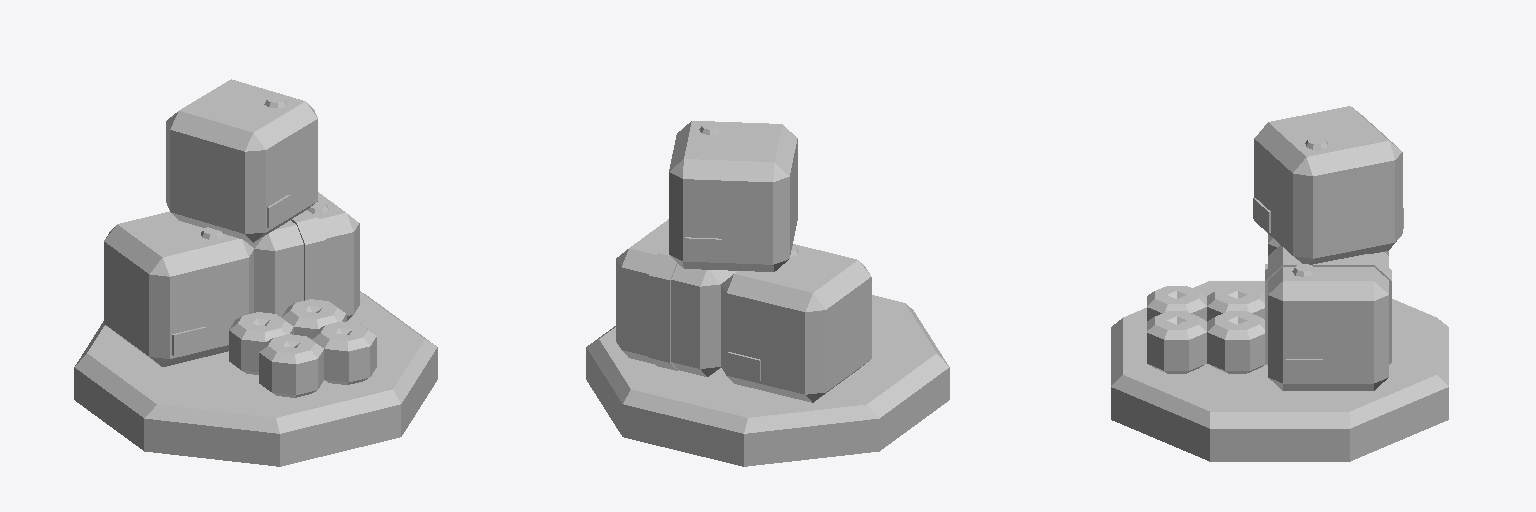
File: roofmodule_cargo_B.obj
3 views of the same model, side by side, from view 1: azimuth 30°, elevation 25°; view 2: azimuth 150°, elevation 25°; view 3: azimuth 270°, elevation 25° (orthographic).
Parts seen in each view (by area): view 1: roofmodule_cargo_B_Cylinder.2712; view 2: roofmodule_cargo_B_Cylinder.2712; view 3: roofmodule_cargo_B_Cylinder.2712.
Part boxes in pixels (bbox=[...]): roofmodule_cargo_B_Cylinder.2712: bbox=[74, 79, 437, 466]; roofmodule_cargo_B_Cylinder.2712: bbox=[586, 121, 949, 466]; roofmodule_cargo_B_Cylinder.2712: bbox=[1111, 106, 1448, 461].
Bounding box in the file's own units: 1.4 × 1.22 × 1.4.